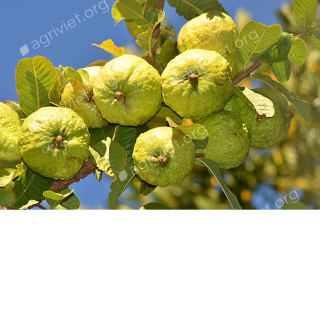oi: (156, 47, 235, 123), (18, 103, 92, 181), (181, 102, 254, 173), (93, 54, 161, 127), (130, 119, 198, 188)
